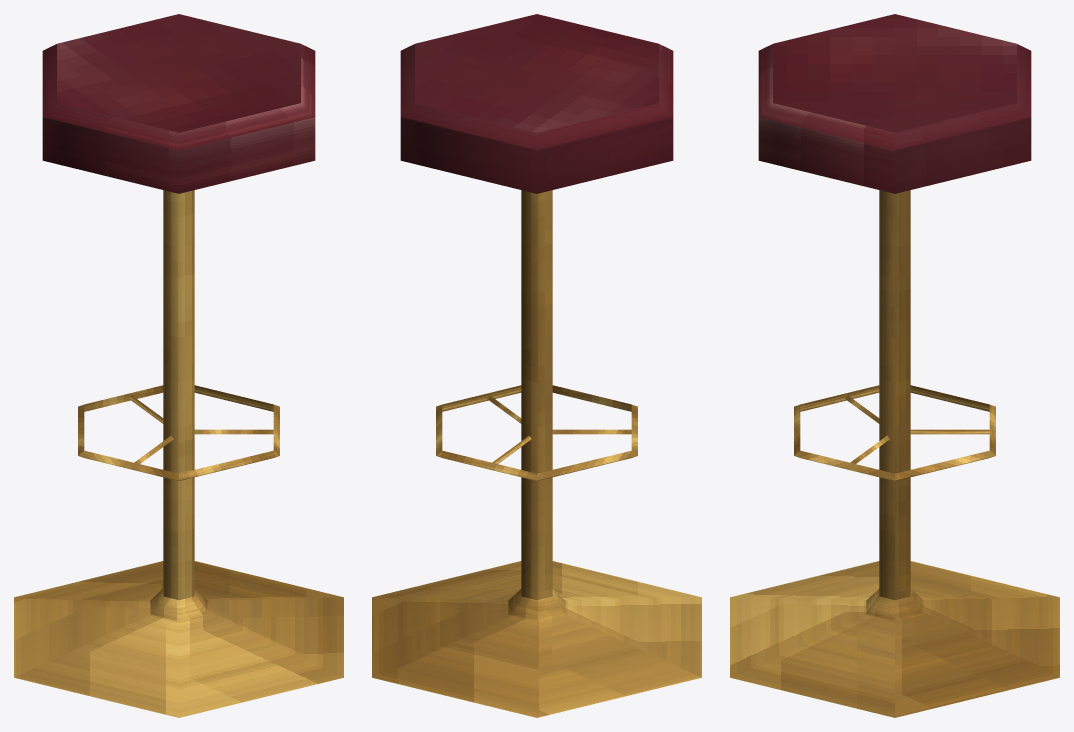
Rendered from burgundy-pedestal-bar-stool.obj.
3 renders of one model, left to right at view 1: azimuth 30°, elevation 25°; view 2: azimuth 150°, elevation 25°; view 3: azimuth 270°, elevation 25°, orthographic.
Parts seen in each view (by area): view 1: burgundy-pedestal-bar-stool; view 2: burgundy-pedestal-bar-stool; view 3: burgundy-pedestal-bar-stool.
Boxes of the visible parts, x1,y1,x2,y2 form: burgundy-pedestal-bar-stool: (14,14,343,717); burgundy-pedestal-bar-stool: (372,14,701,717); burgundy-pedestal-bar-stool: (730,14,1059,717).
Bounding box in the file's own units: 0.46 × 0.752 × 0.3984.
1 material, 1 textured.
